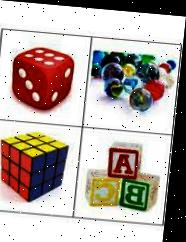cube: (0, 129, 73, 203), (11, 44, 76, 111)
